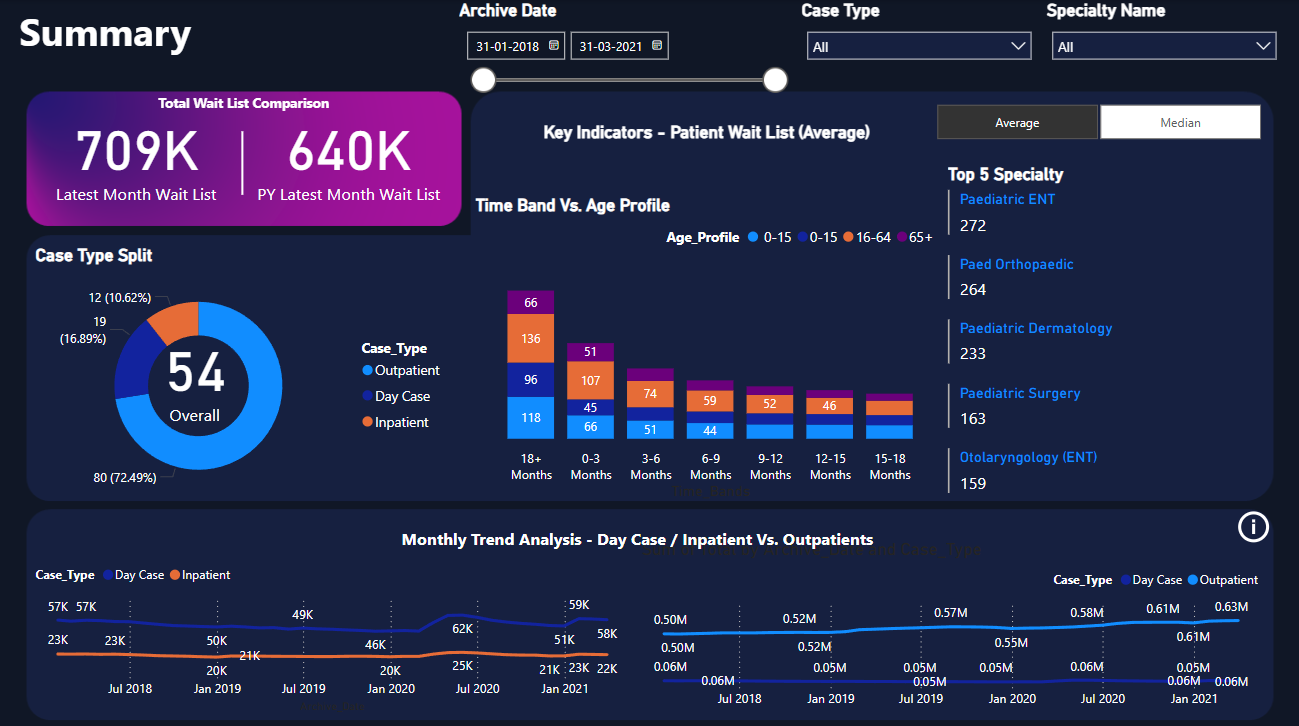

The dashboard page shown, as its layout file describes it:
{"tool":"powerbi","page":{"name":"Summary","canvas":[1280,720],"ordinal":0},"visuals":[{"type":"card","fields":{"Values":["All_Data.Latest Month Wait List"]},"box":[32,96,208,112],"z":0},{"type":"card","fields":{"Values":["All_Data.PY Latest Month Wait List"]},"box":[240,96,208,112],"z":1000},{"type":"slicer","fields":{"Values":["Calculation Method.Calc Method"]},"box":[896,96,368,48],"z":2000},{"type":"donutChart","title":"Case Type Split","fields":{"Category":["All_Data.Case_Type"],"Y":["All_Data.Avg/Med Wait List"]},"box":[32,240,416,256],"z":3000},{"type":"columnChart","title":"Time Band Vs. Age Profile","fields":{"Y":["All_Data.Avg/Med Wait List"],"Category":["All_Data.Time_Bands"],"Series":["All_Data.Age_Profile"]},"box":[464,192,464,304],"z":4000},{"type":"multiRowCard","title":"Top 5 Specialty","fields":{"Values":["All_Data.Avg/Med Wait List","All_Data.Speciality_Name"]},"box":[927.6,160.7,336.2,352.1],"z":5000},{"type":"card","fields":{"Values":["All_Data.NoDataRight"]},"box":[743.6,571.8,387.7,92],"z":5500},{"type":"lineChart","fields":{"Category":["All_Data.Archive_Date"],"Y":["Sum(All_Data.Total)"],"Series":["All_Data.Case_Type"]},"box":[31.9,544.8,595.1,159.5],"z":6000},{"type":"lineChart","fields":{"Category":["All_Data.Archive_Date"],"Y":["Sum(All_Data.Total)"],"Series":["All_Data.Case_Type"]},"box":[627,528.8,619.6,175.5],"z":7000},{"type":"slicer","title":"Archive Date","fields":{"Values":["All_Data.Archive_Date"]},"box":[448,0,336,96],"z":8000},{"type":"slicer","title":"Case Type","fields":{"Values":["All_Data.Case_Type"]},"box":[784,0,240,80],"z":9000},{"type":"slicer","title":"Specialty Name","fields":{"Values":["All_Data.Specialty_Name"]},"box":[1024,0,240,80],"z":10000},{"type":"textbox","box":[16,0,432,64],"z":11000},{"type":"card","fields":{"Values":["All_Data.Avg/Med Wait List"]},"box":[114.1,312.9,158.3,111.7],"z":12000},{"type":"shape","box":[79.8,128.8,320.2,62.6],"z":13000},{"type":"textbox","box":[300.6,512.9,654,31.9],"z":14000},{"type":"textbox","box":[81,87.1,320.2,33.1],"z":15000},{"type":"card","fields":{"Values":["All_Data.Dynamic Title"]},"box":[473.6,87.1,444.2,87.1],"z":16000},{"type":"actionButton","box":[1212.3,496.9,67.5,40.5],"z":17000}]}

Visuals, with their boxes in screenshot pixels (x1, y1, x2, y2), scaled from the page's 1280x720 canvas onto the 1299x726 screenshot:
card - All_Data.Latest Month Wait List: bbox=(32, 97, 244, 210)
card - All_Data.PY Latest Month Wait List: bbox=(244, 97, 455, 210)
slicer - Calculation Method.Calc Method: bbox=(909, 97, 1283, 145)
"Case Type Split" donutChart: bbox=(32, 242, 455, 500)
"Time Band Vs. Age Profile" columnChart: bbox=(471, 194, 942, 500)
"Top 5 Specialty" multiRowCard: bbox=(941, 162, 1283, 517)
card - All_Data.NoDataRight: bbox=(755, 577, 1148, 669)
lineChart - All_Data.Archive_Date x Sum(All_Data.Total): bbox=(32, 549, 636, 710)
lineChart - All_Data.Archive_Date x Sum(All_Data.Total): bbox=(636, 533, 1265, 710)
"Archive Date" slicer: bbox=(455, 0, 796, 97)
"Case Type" slicer: bbox=(796, 0, 1039, 81)
"Specialty Name" slicer: bbox=(1039, 0, 1283, 81)
textbox: bbox=(16, 0, 455, 65)
card - All_Data.Avg/Med Wait List: bbox=(116, 316, 276, 428)
shape: bbox=(81, 130, 406, 193)
textbox: bbox=(305, 517, 969, 549)
textbox: bbox=(82, 88, 407, 121)
card - All_Data.Dynamic Title: bbox=(481, 88, 931, 176)
actionButton: bbox=(1230, 501, 1298, 542)
